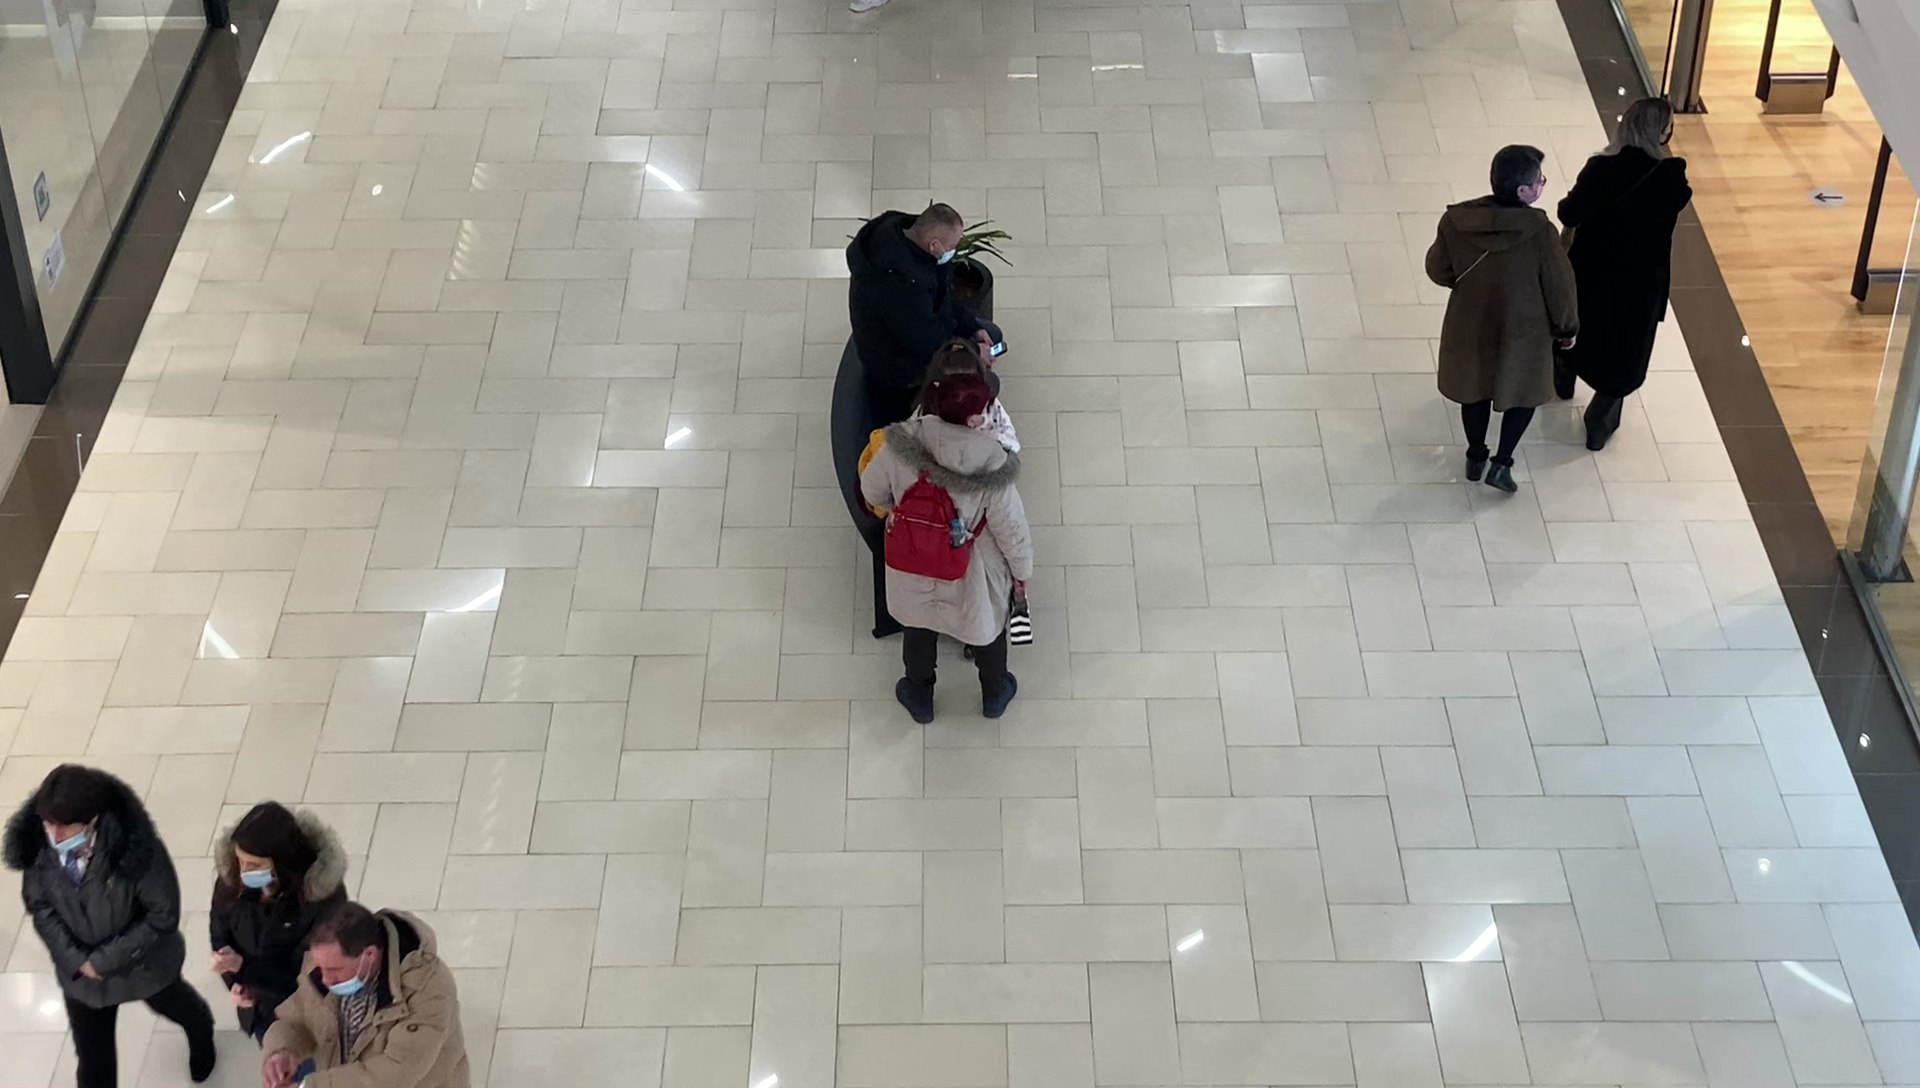person: (6, 764, 215, 1088), (1427, 145, 1576, 495), (1570, 98, 1691, 452), (260, 903, 474, 1088)
